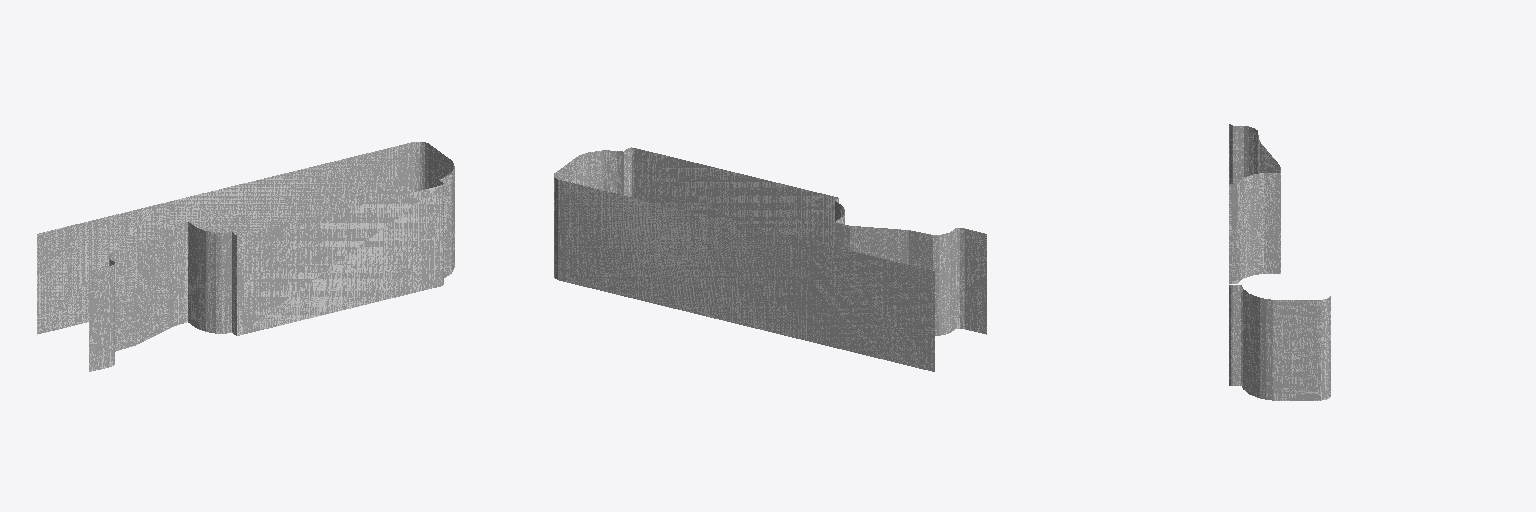
Rendered from original-44.obj.
The picture shows the model from 3 angles: view 1: azimuth 30°, elevation 25°; view 2: azimuth 150°, elevation 25°; view 3: azimuth 270°, elevation 25°; orthographic projection.
Visible parts, largest first — view 1: DF_11_CR1/DF_11_CR/mesh31/mesh31-geometry#mesh31-geometry; view 2: DF_11_CR1/DF_11_CR/mesh31/mesh31-geometry#mesh31-geometry; view 3: DF_11_CR1/DF_11_CR/mesh31/mesh31-geometry#mesh31-geometry.
Boxes of the visible parts, x1,y1,x2,y2 form: DF_11_CR1/DF_11_CR/mesh31/mesh31-geometry#mesh31-geometry: [37, 142, 454, 371]; DF_11_CR1/DF_11_CR/mesh31/mesh31-geometry#mesh31-geometry: [554, 147, 986, 371]; DF_11_CR1/DF_11_CR/mesh31/mesh31-geometry#mesh31-geometry: [1229, 124, 1330, 400].
Size of the model in its own units: 0.1169 by 0.0292 by 0.027.